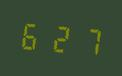seven: (75, 21, 102, 59)
six: (18, 16, 45, 54)
two: (47, 18, 74, 57)
